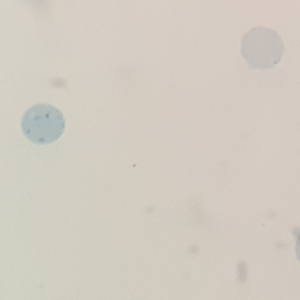punctate reticulocyte: (239, 26, 286, 71), (19, 103, 67, 146)
